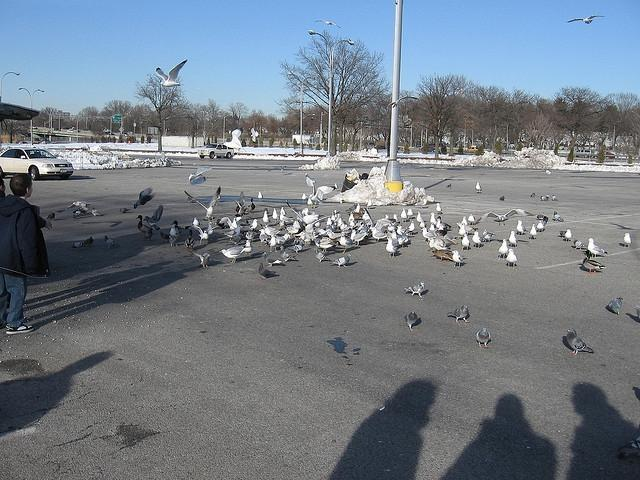car: (0, 146, 77, 180), (574, 149, 593, 158), (590, 152, 614, 158), (420, 146, 436, 152), (464, 145, 479, 150)
truck: (198, 144, 235, 160)
